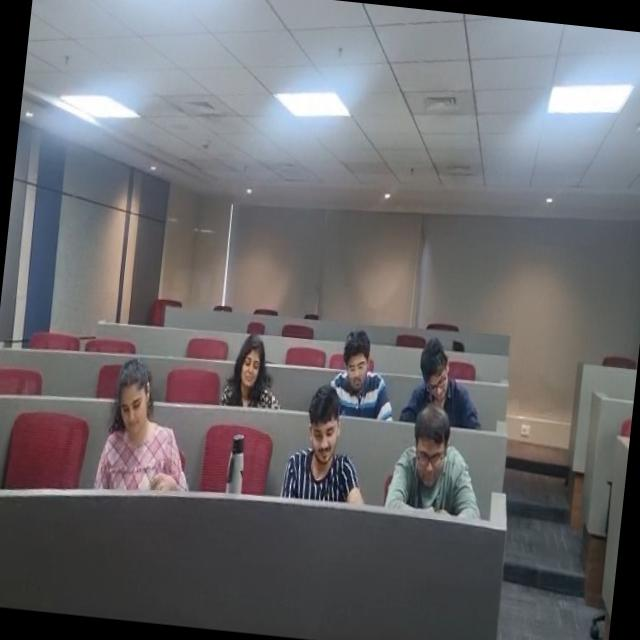cheating: (81, 340, 192, 514), (274, 382, 378, 522)
non-cheating: (370, 412, 498, 532), (200, 319, 310, 428), (393, 327, 479, 426), (319, 324, 392, 423)
